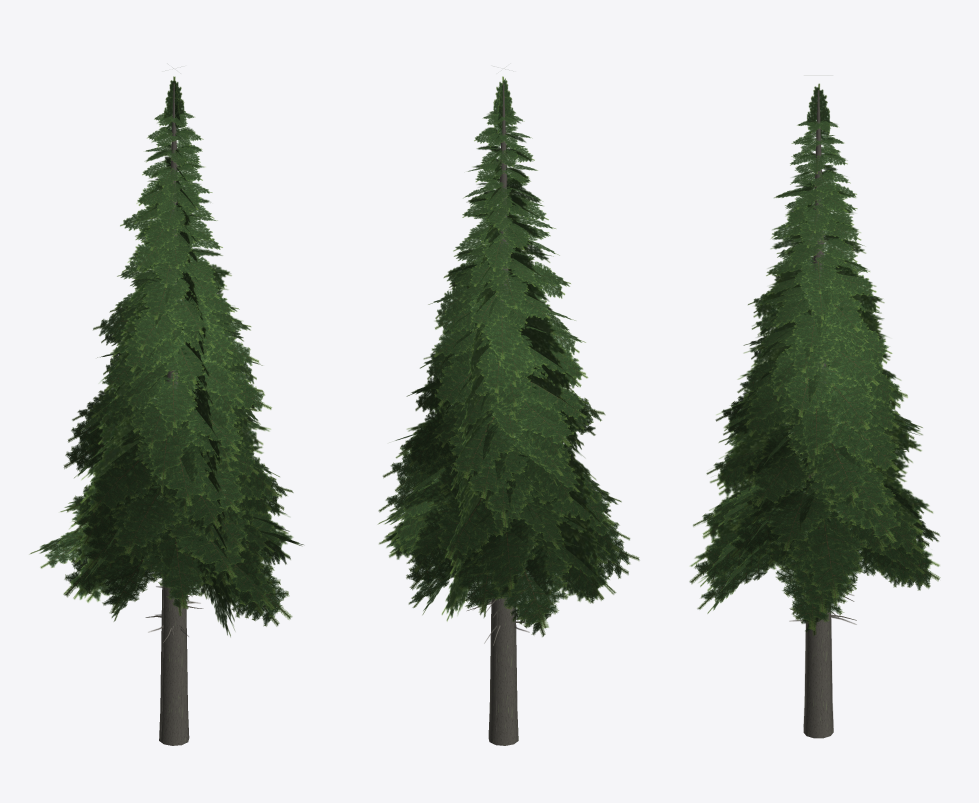
The model's file is tree_fir.glb.
3 renders of one model, left to right at view 1: azimuth 30°, elevation 25°; view 2: azimuth 150°, elevation 25°; view 3: azimuth 270°, elevation 25°, orthographic. The views are drawn at different scales.
Visible parts, largest first — view 1: crown, far, trunk; view 2: crown, far, trunk; view 3: crown, far, trunk.
Boxes of the visible parts, left/top/right/bottom form: crown: left=29, top=77, right=303, bottom=626; far: left=63, top=68, right=298, bottom=731; trunk: left=145, top=83, right=203, bottom=745; crown: left=377, top=77, right=639, bottom=636; far: left=379, top=77, right=613, bottom=736; trunk: left=467, top=83, right=525, bottom=745; crown: left=689, top=83, right=940, bottom=635; far: left=690, top=84, right=939, bottom=726; trunk: left=787, top=90, right=856, bottom=738.
Size of the model in its own units: 6.96 by 17.27 by 6.97.
Materials: 3 (3 with a texture image).
